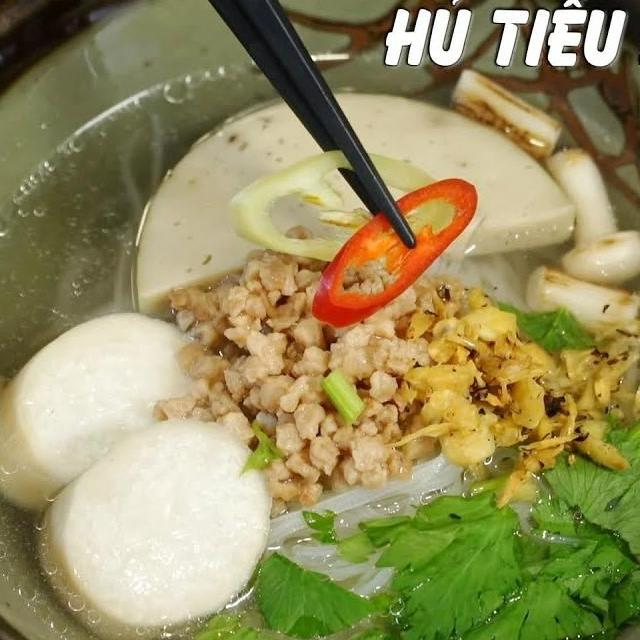hu tieu: (244, 428, 586, 608)
thit bam: (146, 213, 470, 514)
